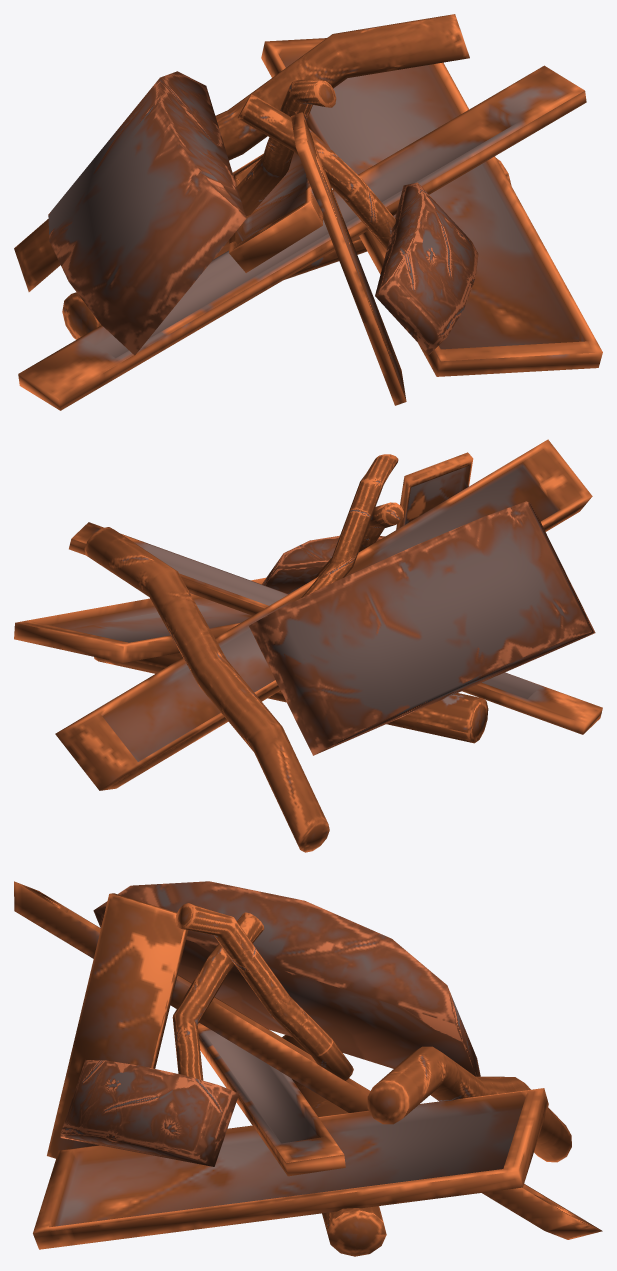
Rendered from prop_scrap_v01.gltf.
The picture shows the model from 3 angles, top to bottom: view 1: azimuth 30°, elevation 25°; view 2: azimuth 150°, elevation 25°; view 3: azimuth 270°, elevation 25°; orthographic projection. The views are drawn at different scales.
Visible parts, largest first — view 1: prop_scrap1; view 2: prop_scrap1; view 3: prop_scrap1.
Boxes of the visible parts, x1=… form: prop_scrap1: x1=14, y1=14, x2=602, y2=410; prop_scrap1: x1=14, y1=439, x2=602, y2=852; prop_scrap1: x1=14, y1=881, x2=602, y2=1256.
Bounding box in the file's own units: 3.37 × 1.77 × 3.11.
1 material, 1 textured.
